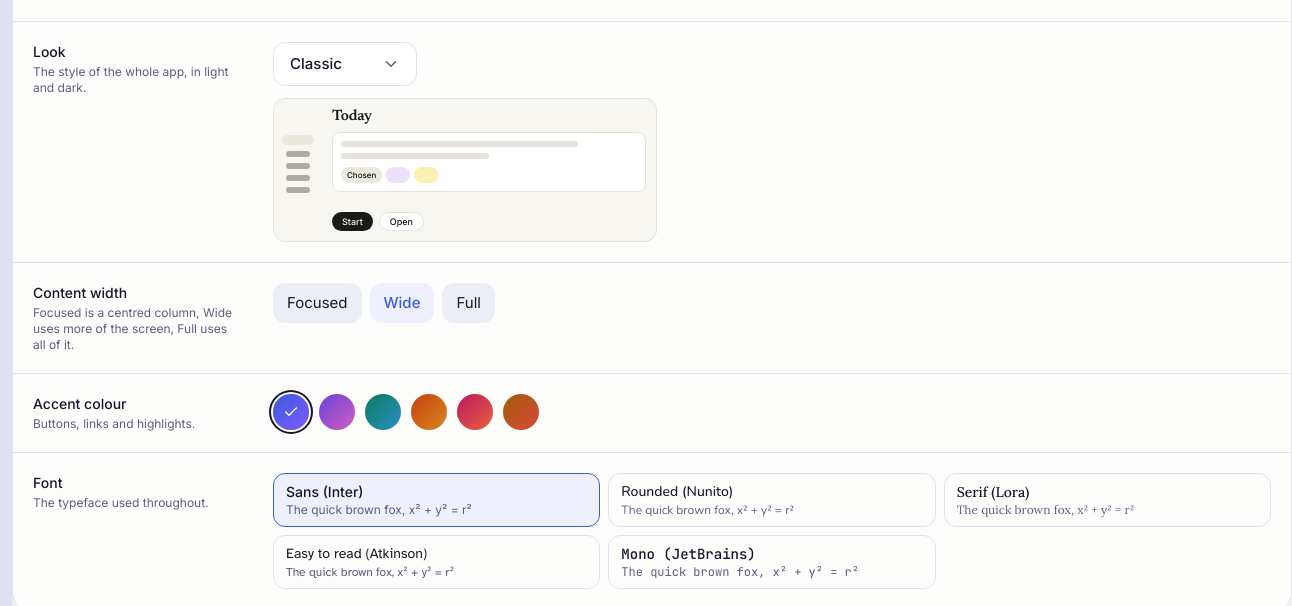
Test: Look picker › applies the new look at once and saves it
Click the button with aria-label "Look": click(345, 64) x1=273 y1=42 x2=417 y2=86
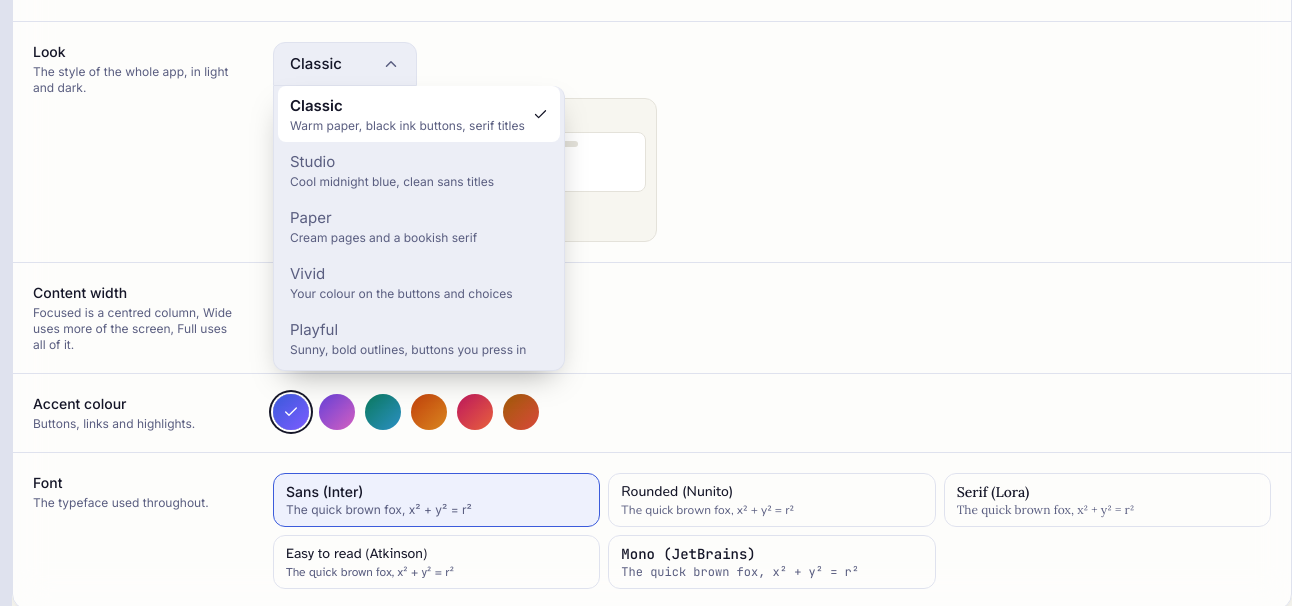
Click the option "Studio Cool midnight blue, clean sans titles": click(313, 162) x1=290 y1=152 x2=494 y2=189
(page scrolled)
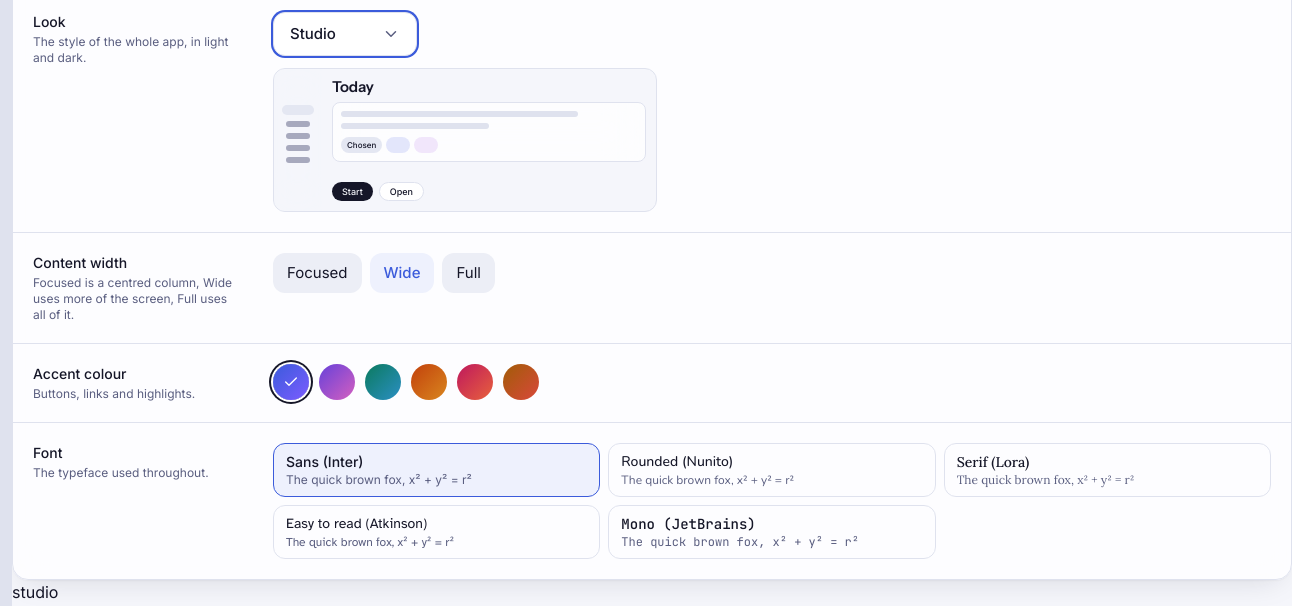
Result: the text with test id "look" reads "studio" at x1=12 y1=582 x2=58 y2=602
